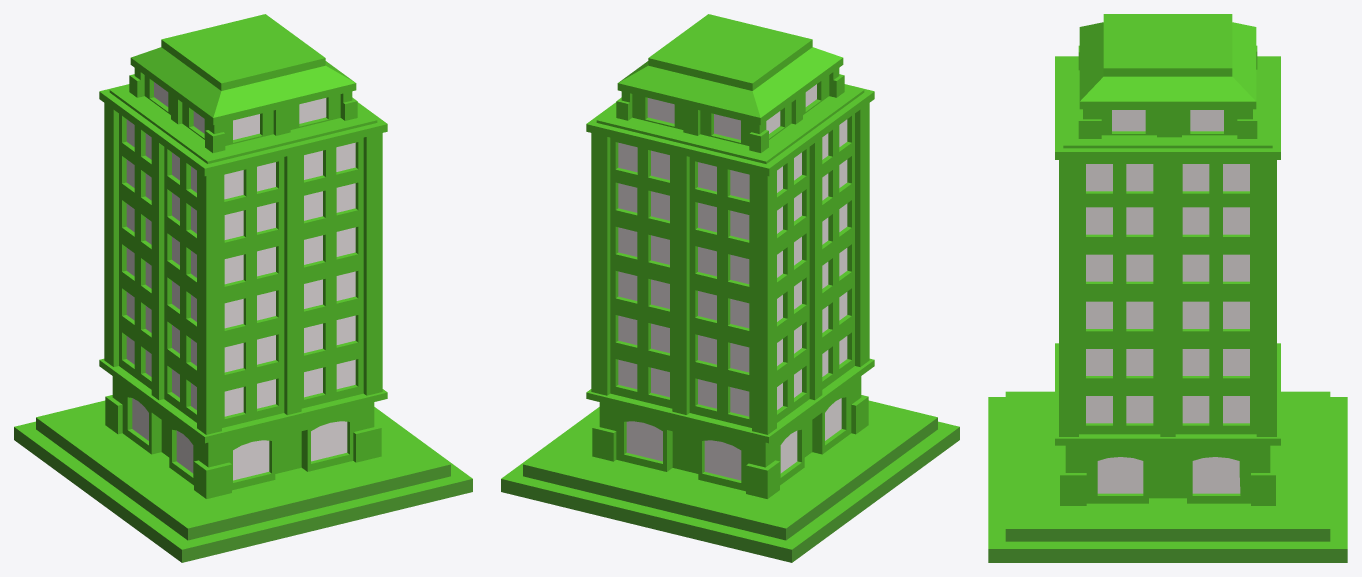
Rendered from greenapartmentlevel2 (1).fbx.
3 renders of one model, left to right at view 1: azimuth 30°, elevation 25°; view 2: azimuth 150°, elevation 25°; view 3: azimuth 270°, elevation 25°, orthographic. The views are drawn at different scales.
Visible parts, largest first — view 1: 2apartmantgreen, 2apartmantbasegreen, 2apartmantlight1green, 2apartmantlight6green, 2apartmantlight3green, 2apartmantlight5green, 2apartmantlight2green, 2apartmantlight4green, 2apartmantlight7green, 2apartmantlight8green; view 2: 2apartmantgreen, 2apartmantbasegreen, 2apartmantlight1green, 2apartmantlight6green, 2apartmantlight3green, 2apartmantlight5green, 2apartmantlight2green, 2apartmantlight4green, 2apartmantlight7green, 2apartmantlight8green; view 3: 2apartmantgreen, 2apartmantbasegreen, 2apartmantlight1green, 2apartmantlight6green, 2apartmantlight7green, 2apartmantlight5green, 2apartmantlight4green, 2apartmantlight2green, 2apartmantlight3green, 2apartmantlight8green.
Part boxes in pixels (box(x1,y1,x2,y2)): 2apartmantgreen: box(99, 14, 387, 498); 2apartmantbasegreen: box(14, 400, 472, 562); 2apartmantlight1green: box(132, 398, 347, 480); 2apartmantlight6green: box(126, 159, 355, 239); 2apartmantlight3green: box(126, 292, 355, 372); 2apartmantlight5green: box(126, 203, 355, 284); 2apartmantlight2green: box(126, 336, 355, 416); 2apartmantlight4green: box(126, 248, 355, 328); 2apartmantlight7green: box(126, 119, 355, 199); 2apartmantlight8green: box(154, 82, 326, 139); 2apartmantgreen: box(586, 14, 874, 498); 2apartmantbasegreen: box(501, 400, 959, 562); 2apartmantlight1green: box(626, 398, 841, 480); 2apartmantlight6green: box(618, 159, 847, 239); 2apartmantlight3green: box(618, 292, 847, 372); 2apartmantlight5green: box(618, 203, 847, 284); 2apartmantlight2green: box(618, 336, 847, 416); 2apartmantlight4green: box(618, 248, 847, 328); 2apartmantlight7green: box(618, 119, 847, 199); 2apartmantlight8green: box(647, 84, 816, 139); 2apartmantgreen: box(1055, 14, 1280, 505); 2apartmantbasegreen: box(988, 391, 1347, 562); 2apartmantlight1green: box(1097, 457, 1240, 493); 2apartmantlight6green: box(1086, 207, 1249, 234); 2apartmantlight7green: box(1086, 164, 1249, 191); 2apartmantlight5green: box(1086, 254, 1249, 281); 2apartmantlight4green: box(1086, 301, 1249, 328); 2apartmantlight2green: box(1086, 396, 1249, 423); 2apartmantlight3green: box(1086, 349, 1249, 375); 2apartmantlight8green: box(1112, 110, 1223, 131).
Bounding box in the file's own units: 577 × 790 × 577.
